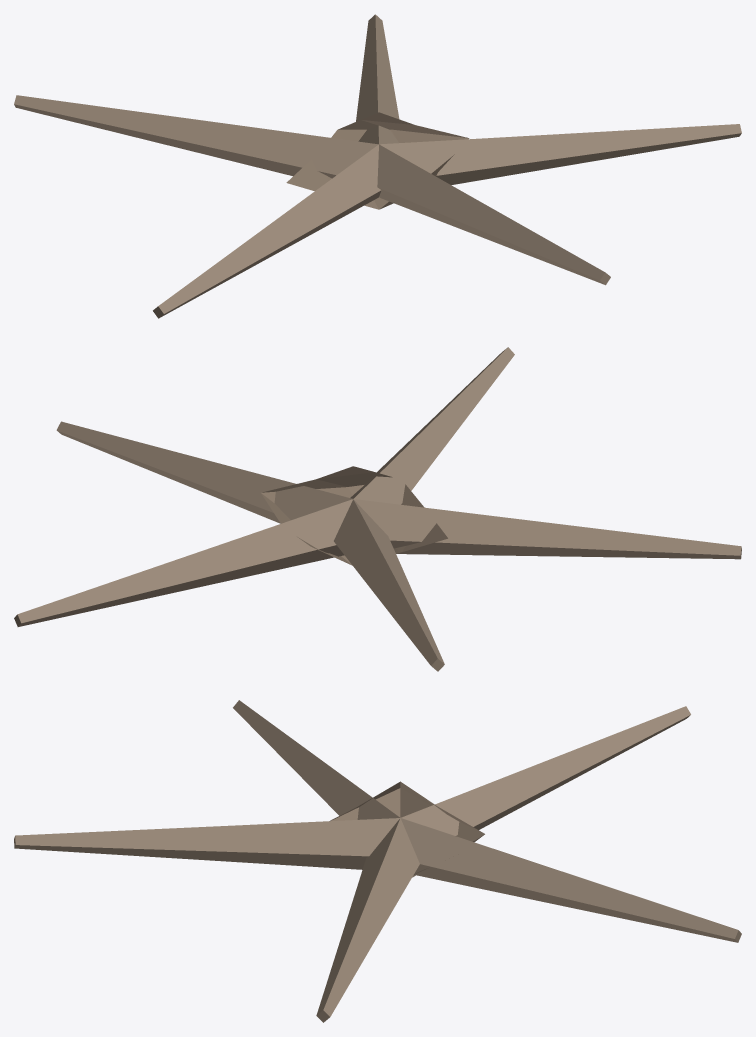
3 views of the same model, one above another, from view 1: azimuth 30°, elevation 25°; view 2: azimuth 150°, elevation 25°; view 3: azimuth 270°, elevation 25° (orthographic). The views are drawn at different scales.
Visible parts, largest first — view 1: lod0; view 2: lod0; view 3: lod0.
Boxes of the visible parts, x1,y1,x2,y2 form: lod0: (14,14,741,318); lod0: (14,347,741,671); lod0: (14,700,741,1022).
Size of what is drawn, in the model's own units: 1.24 by 0.1839 by 1.22.
